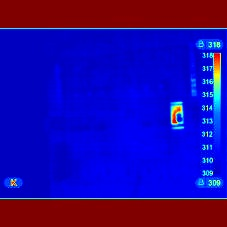Medium: (170, 108, 186, 129)
